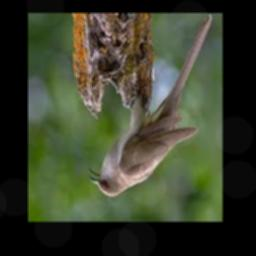Cuckoo: (87, 15, 212, 196)
